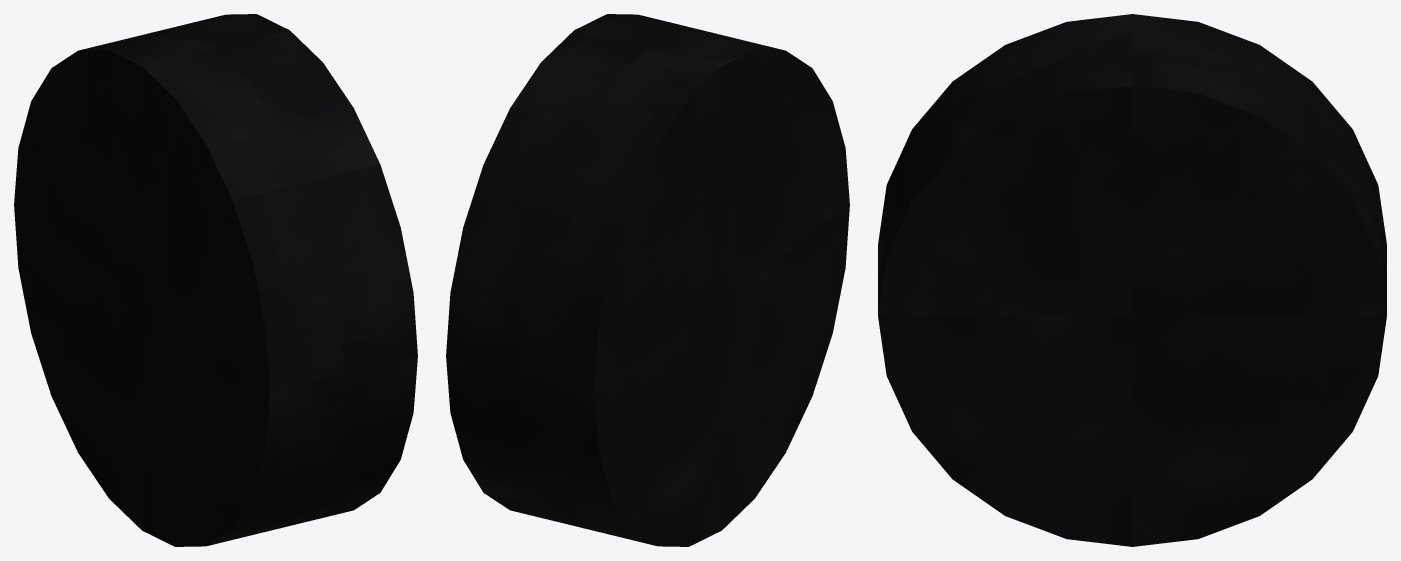
The model's file is Car_Wheel_FL.obj.
The picture shows the model from 3 angles, left to right: view 1: azimuth 30°, elevation 25°; view 2: azimuth 150°, elevation 25°; view 3: azimuth 270°, elevation 25°; orthographic projection.
Bounding box in the file's own units: 0.24 × 0.72 × 0.72.
1 material, 1 textured.
